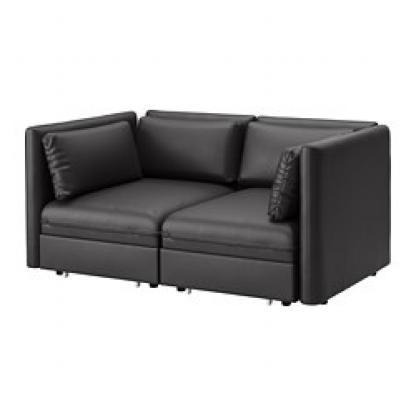Sofa: (20, 95, 391, 308)
